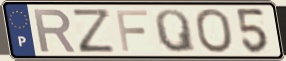5: (234, 6, 270, 56)
F: (114, 9, 150, 53)
O: (193, 7, 235, 54)
Q: (152, 8, 198, 54)
R: (31, 8, 78, 54)
Z: (70, 7, 117, 55)
